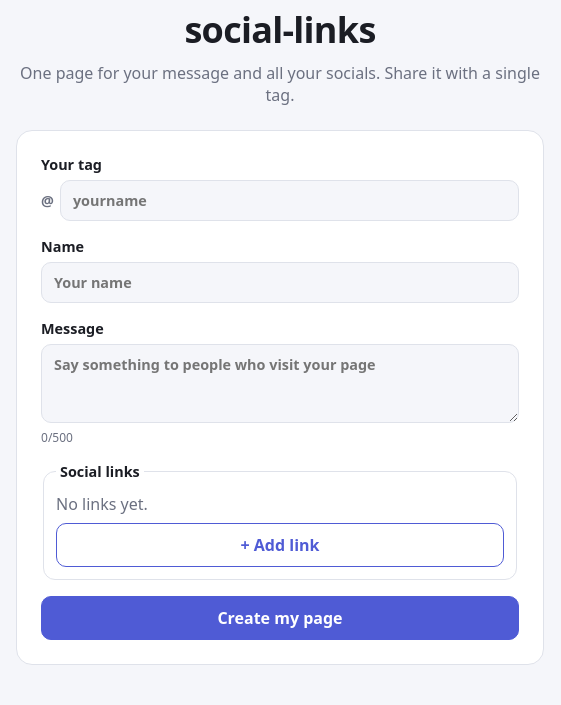
Test case: CreatePage › shows tag availability as you type
Type "ada" into the field with placeholder "yourname" at (289, 200), box top-left (60, 180), bottom-right (519, 221)
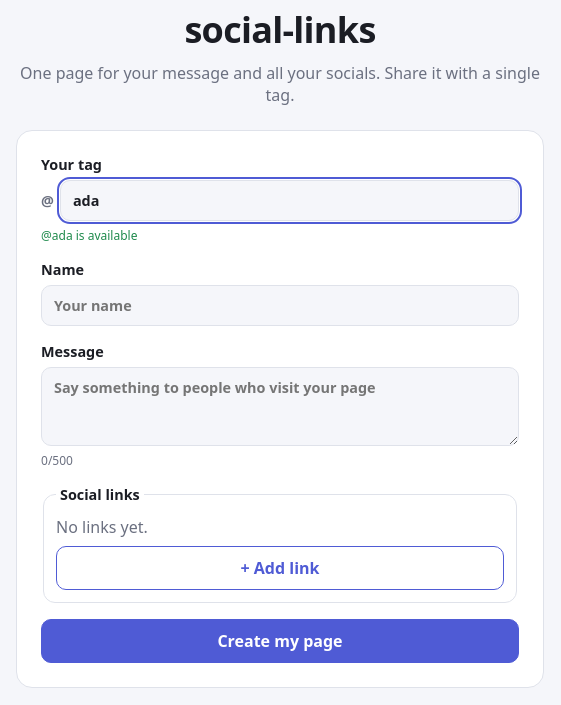
Now the message reads "@ada is available", box top-left (41, 227), bottom-right (138, 244)
